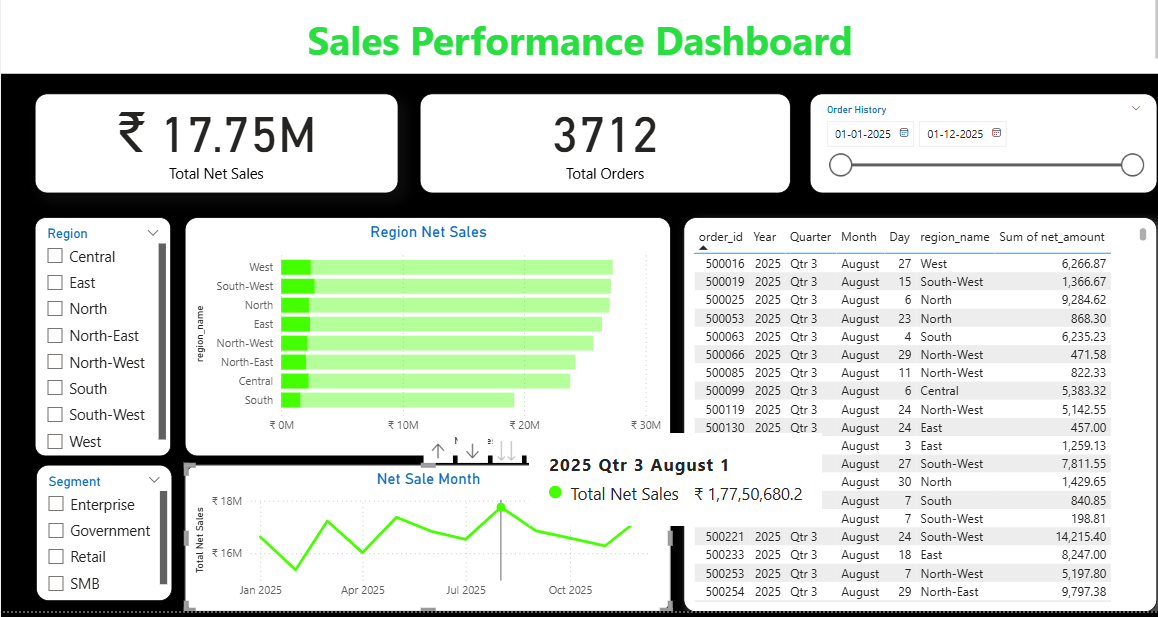

The dashboard page shown, as its layout file describes it:
{"tool":"powerbi","page":{"name":"Page 1","canvas":[1280,720],"ordinal":0},"visuals":[{"type":"card","fields":{"Values":["target_fact_sales_clean.Total Orders"]},"box":[459.7,150.9,407.5,109.8],"z":0},{"type":"card","fields":{"Values":["target_fact_sales_clean.Total Net Sales"]},"box":[37,150.9,399.3,109.8],"z":1000},{"type":"lineChart","title":"Net Sale Month","fields":{"Y":["target_fact_sales_clean.Total Net Sales"],"Category":["target_fact_sales_clean.order_month.Variation.Date Hierarchy.Year","target_fact_sales_clean.order_month.Variation.Date Hierarchy.Quarter","target_fact_sales_clean.order_month.Variation.Date Hierarchy.Month","target_fact_sales_clean.order_month.Variation.Date Hierarchy.Day"]},"box":[201.7,558.5,533.8,161.9],"z":2000},{"type":"barChart","title":"Region Net Sales","fields":{"Category":["dim_region.region_name"],"Y":["target_fact_sales_clean.Total Net Sales"]},"box":[201.7,286.8,533.8,262.1],"z":3000},{"type":"tableEx","fields":{"Values":["target_fact_sales_clean.order_id","target_fact_sales_clean.order_date.Variation.Date Hierarchy.Year","target_fact_sales_clean.order_date.Variation.Date Hierarchy.Quarter","target_fact_sales_clean.order_date.Variation.Date Hierarchy.Month","target_fact_sales_clean.order_date.Variation.Date Hierarchy.Day","dim_region.region_name","Sum(target_fact_sales_clean.net_amount)"]},"box":[749.2,286.8,520.1,433.6],"z":4000},{"type":"slicer","fields":{"Values":["dim_region.region_name"]},"box":[37,286.8,149.6,262.1],"z":5000},{"type":"slicer","fields":{"Values":["dim_customer.segment"]},"box":[38.4,558.5,149.6,149.6],"z":6000},{"type":"slicer","fields":{"Values":["target_fact_sales_clean.order_month"]},"box":[887.8,150.9,381.5,109.8],"z":7000},{"type":"textbox","box":[0,45.3,1280.3,83.7],"z":8000}]}

Visuals, with their boxes in screenshot pixels (x1, y1, x2, y2):
card - target_fact_sales_clean.Total Orders: <region>415, 95, 786, 195</region>
card - target_fact_sales_clean.Total Net Sales: <region>31, 95, 394, 195</region>
"Net Sale Month" lineChart: <region>181, 466, 666, 613</region>
"Region Net Sales" barChart: <region>181, 219, 666, 457</region>
tableEx - target_fact_sales_clean.order_id x target_fact_sales_clean.order_date.Variation.Date Hierarchy.Year: <region>679, 219, 1152, 613</region>
slicer - dim_region.region_name: <region>31, 219, 167, 457</region>
slicer - dim_customer.segment: <region>32, 466, 168, 602</region>
slicer - target_fact_sales_clean.order_month: <region>805, 95, 1152, 195</region>
textbox: <region>0, 0, 1157, 75</region>
